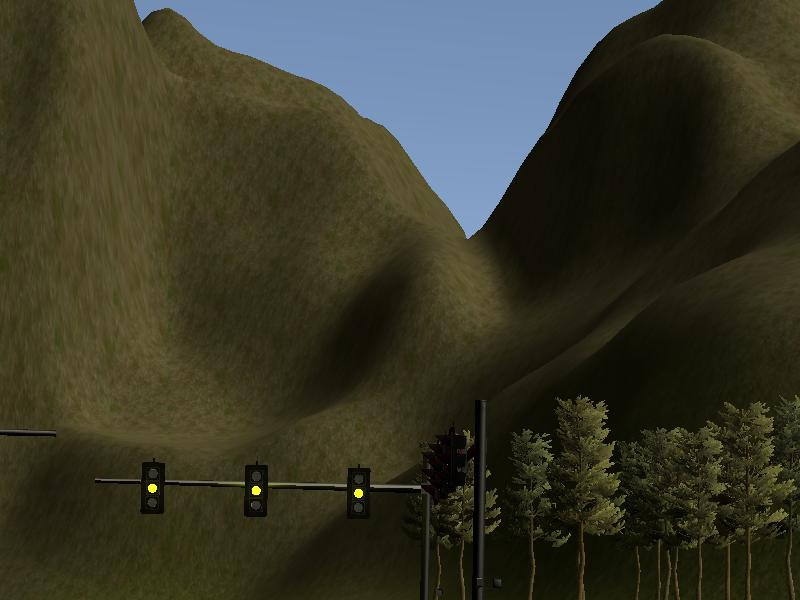Yellow: (244, 464, 269, 517), (345, 466, 370, 519), (140, 459, 163, 513)
